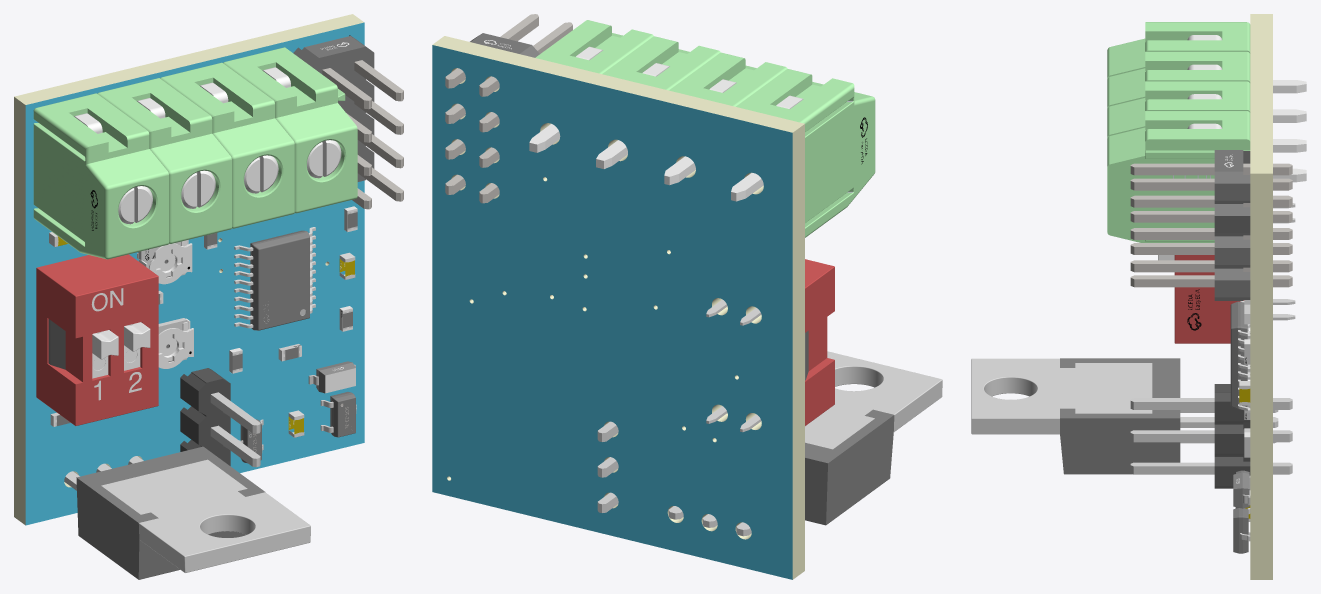
The model's file is PCBModel-optimised.glb.
The picture shows the model from 3 angles, left to right: view 1: azimuth 30°, elevation 25°; view 2: azimuth 150°, elevation 25°; view 3: azimuth 270°, elevation 25°; orthographic projection. The views are drawn at different scales.
Parts seen in each view (by area): view 1: object 1, object 63, object 50, COMPOUND (×4); view 2: object 1, object 63, object 50; view 3: object 1, object 63, object 50.
Boxes of the visible parts, box(x1,y1,x2,y2) form: object 1: box(14, 14, 364, 579); object 63: box(33, 47, 357, 425); object 50: box(180, 35, 403, 467); COMPOUND (×4): box(137, 240, 193, 368); object 1: box(432, 36, 942, 579); object 63: box(535, 20, 875, 425); object 50: box(445, 14, 618, 512); object 1: box(971, 14, 1306, 579); object 63: box(1107, 22, 1250, 343); object 50: box(1130, 150, 1292, 508).
Bounding box in the file's own units: 0.027 × 0.032 × 0.0239.
